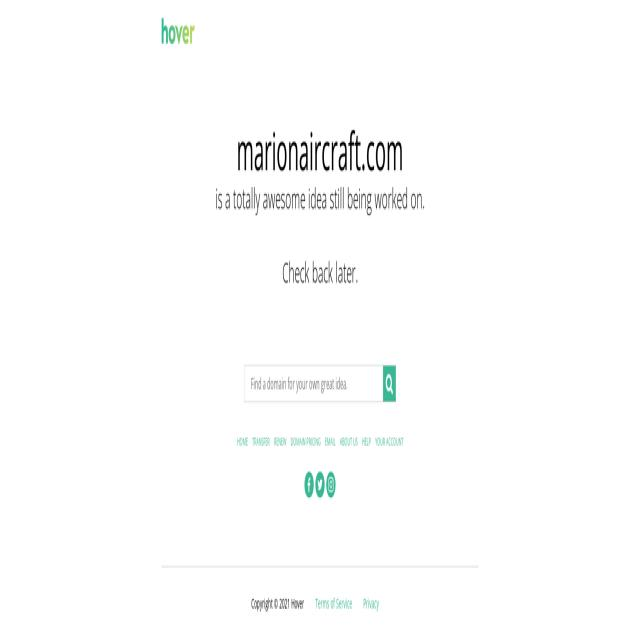button: (161, 17, 195, 45), (383, 367, 396, 404), (304, 472, 314, 498), (315, 472, 325, 498), (326, 472, 336, 498)
field: (244, 365, 383, 402)
